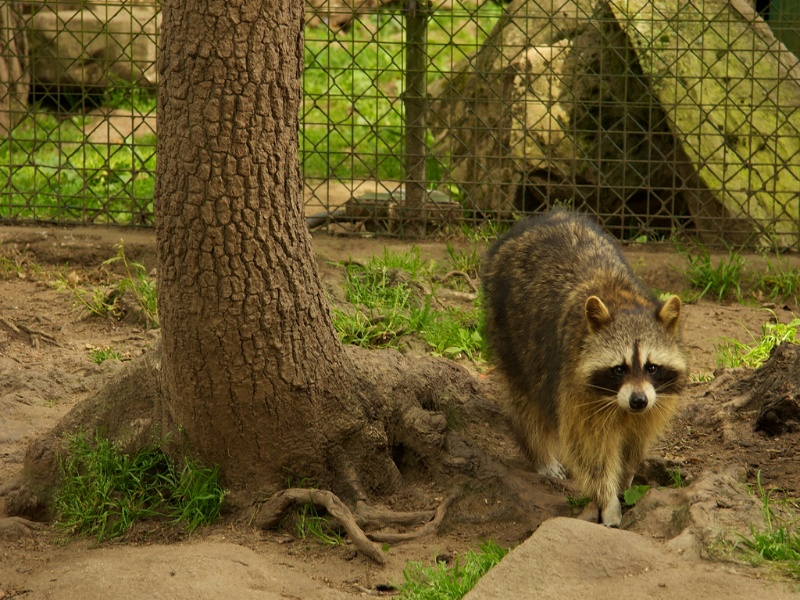raccoon: (476, 207, 692, 528)
